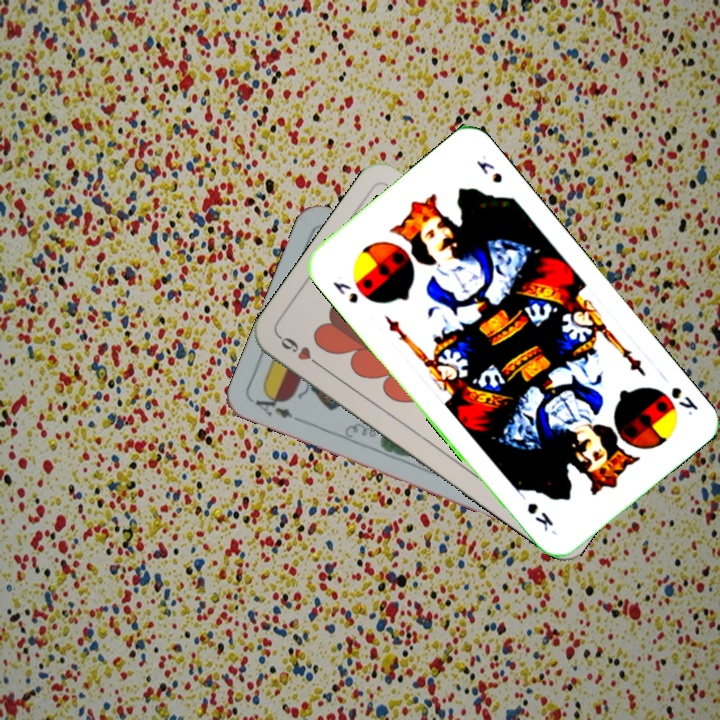EA: (251, 389, 306, 425)
H9: (275, 331, 326, 371)
SK: (667, 382, 701, 418), (328, 277, 361, 306)
